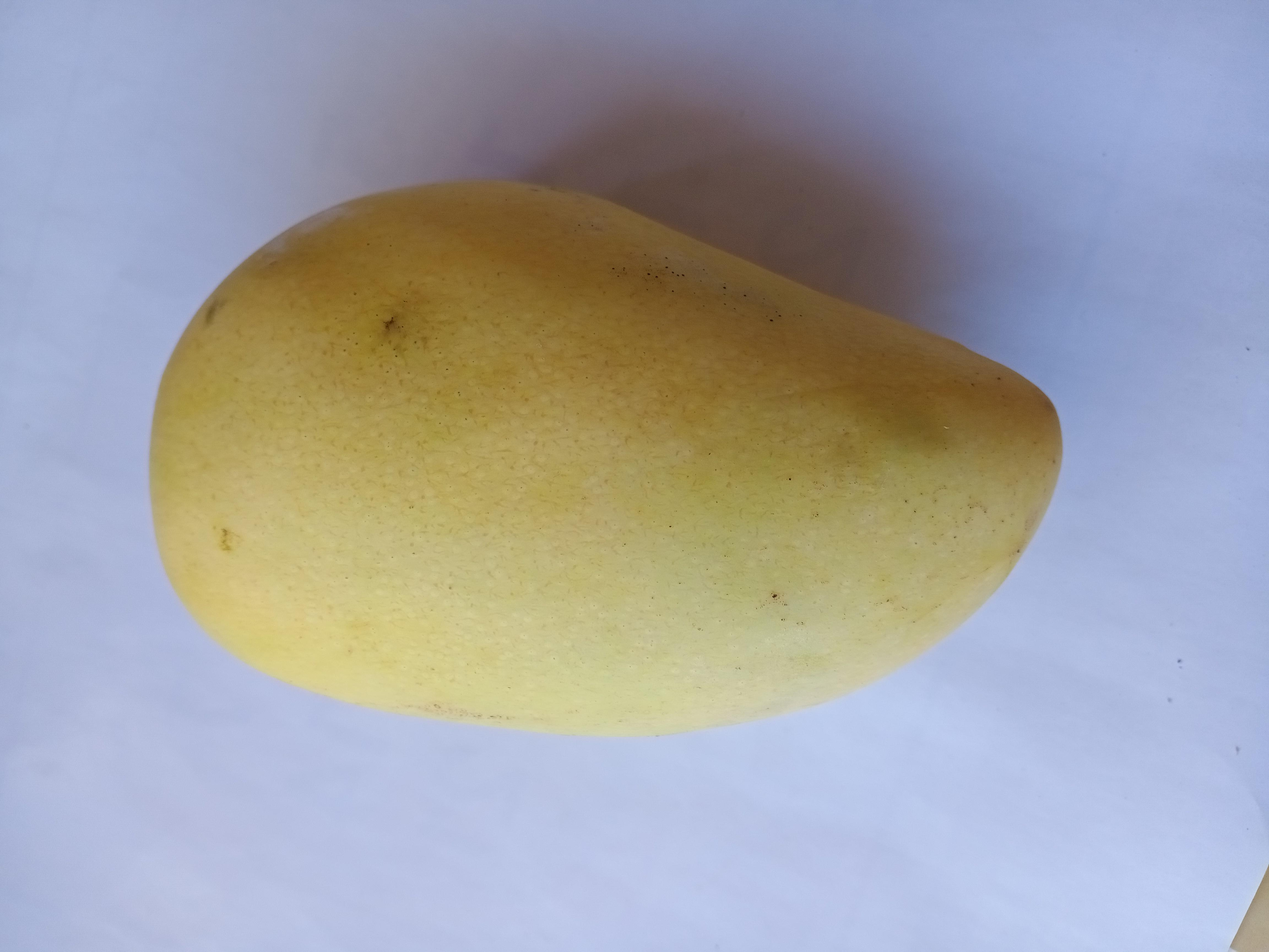Mango Ripe: (105, 132, 1093, 747)
